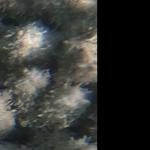dead: (1, 3, 96, 147)
